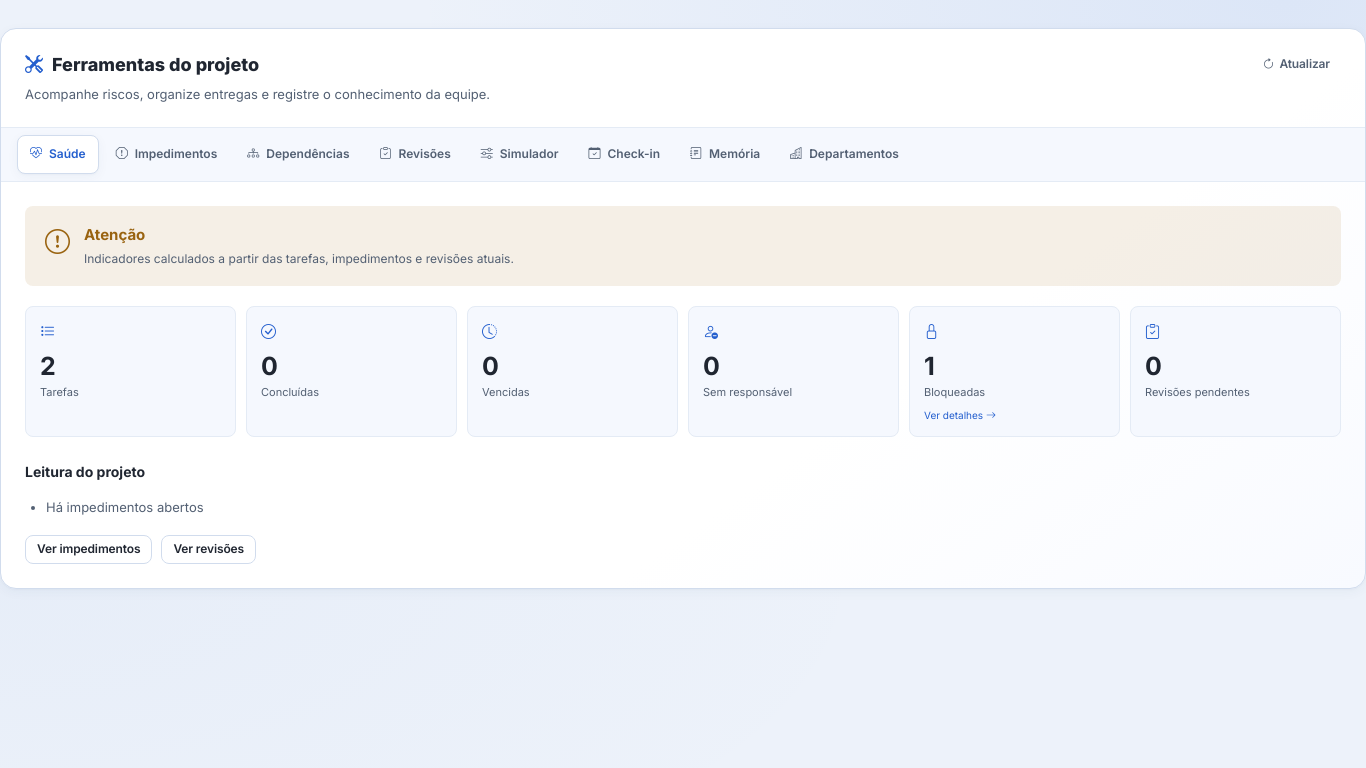
Test: memória filtra registros por tipo sem excluir os outros dados
This screenshot has width=1366, height=768.
Click the tab "Memória": x=725, y=154 top-left (677, 135), bottom-right (773, 174)
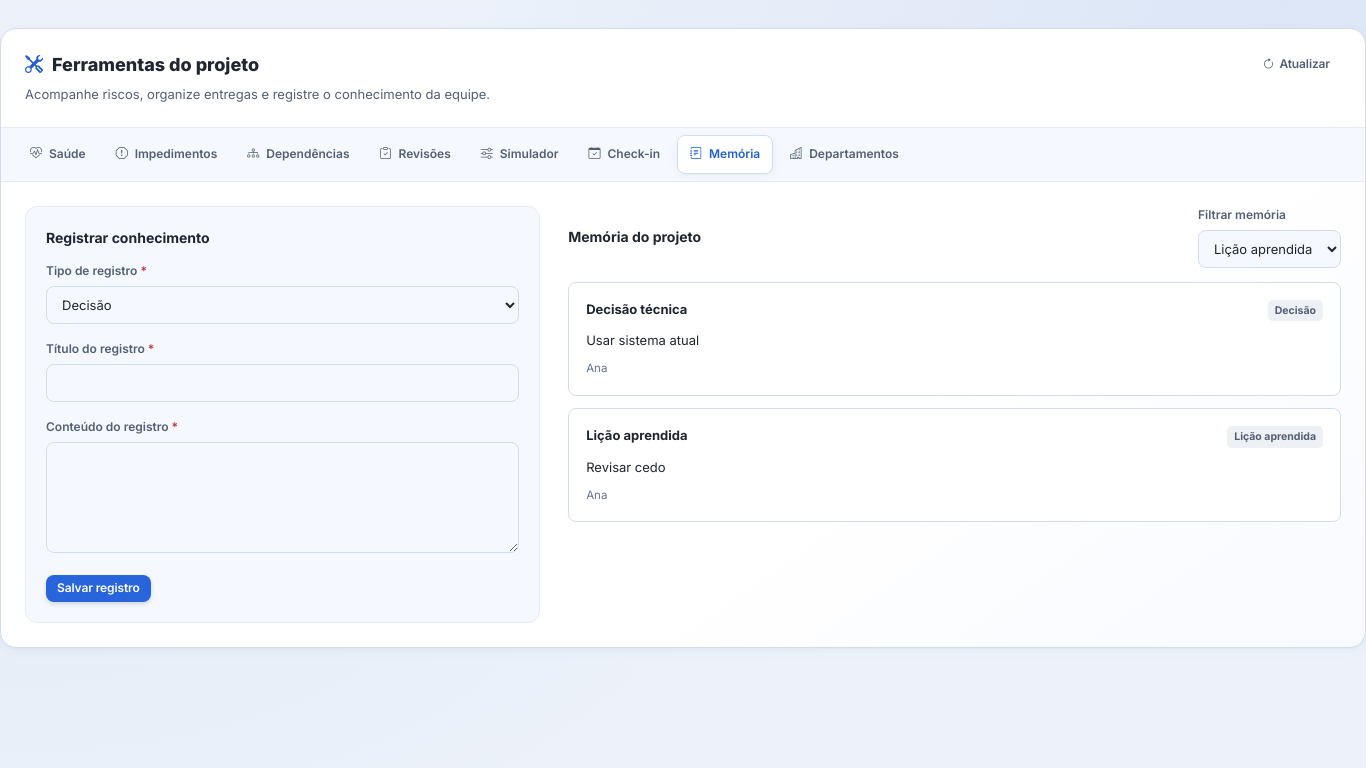
Result: the label "Filtrar memória" is shown at top-left (1198, 207), bottom-right (1286, 222)
Select "Lição aprendida" in the dropdown labelled "Filtrar memória": x=1270, y=249 top-left (1198, 230), bottom-right (1341, 268)
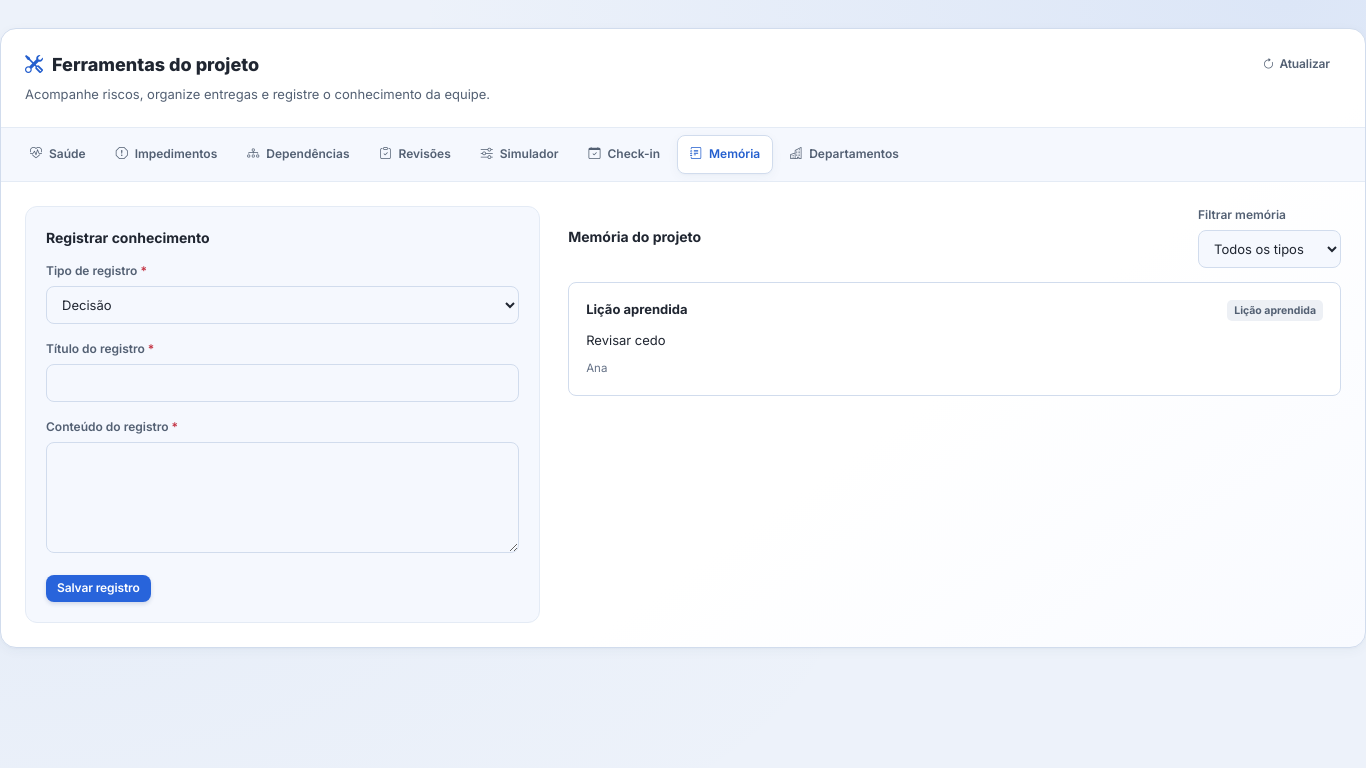
Result: the text "Lição aprendida" is shown at top-left (586, 300), bottom-right (688, 319)
Result: the text "Decisão técnica" is gone
Select "Todos os tipos" in the dropdown labelled "Filtrar memória": x=1270, y=249 top-left (1198, 230), bottom-right (1341, 268)
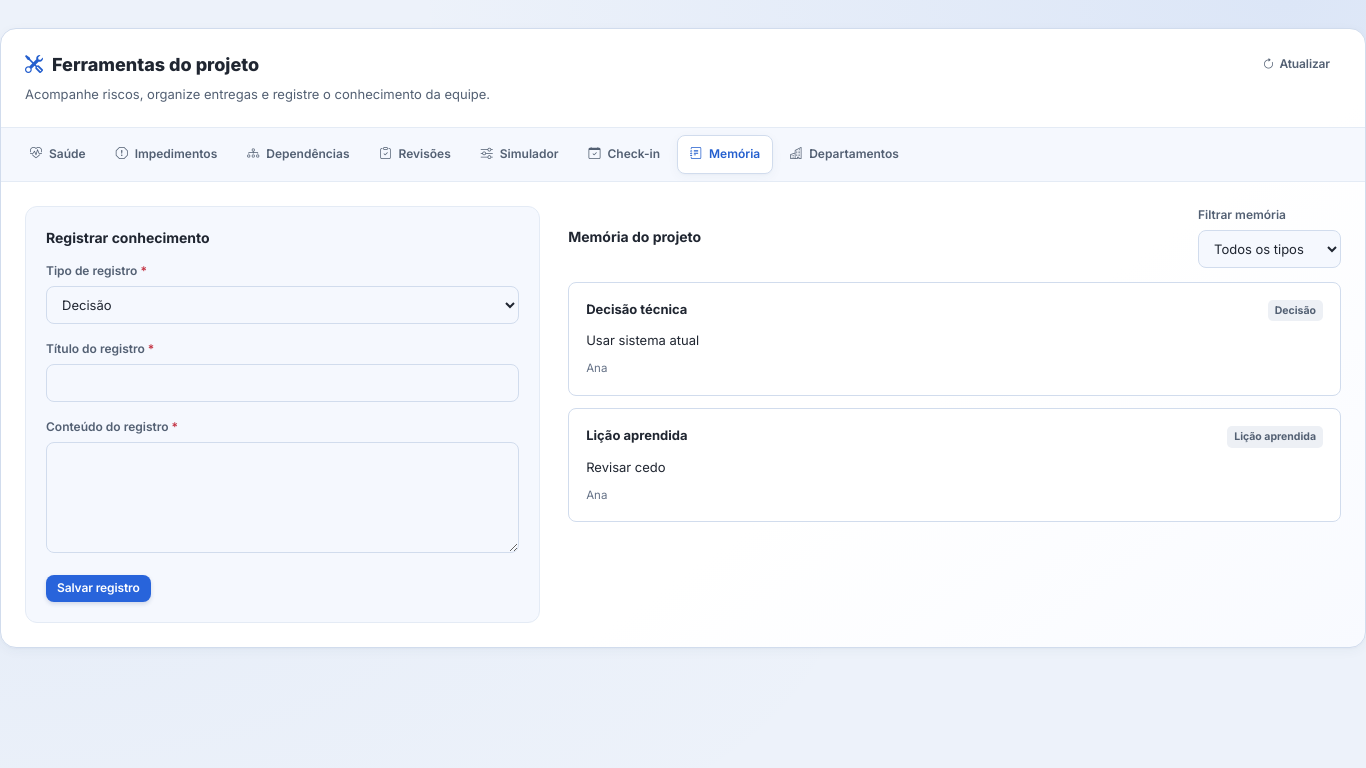
Result: the text "Decisão técnica" is shown at top-left (586, 300), bottom-right (687, 319)
